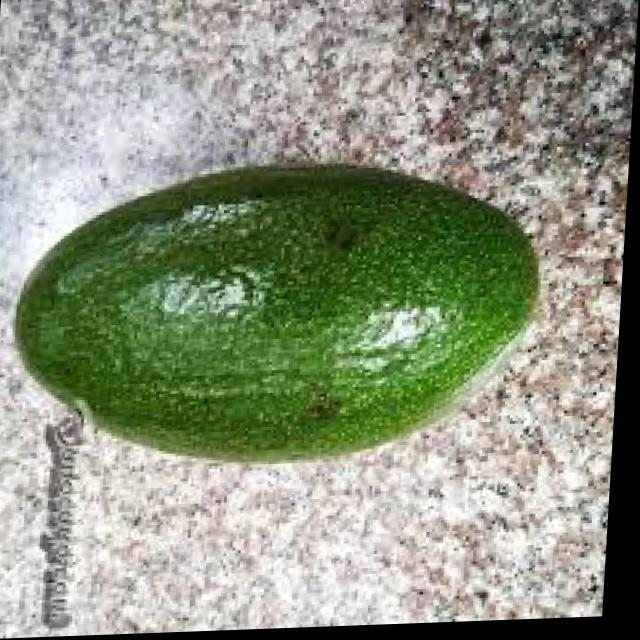Bo: (7, 153, 554, 475)
